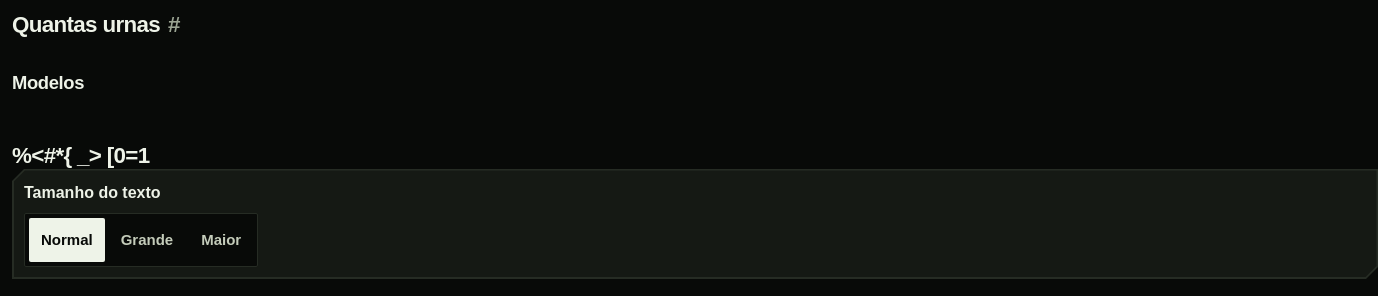
Test: <PostSide /> › tamanho do texto: muda a escala, marca o botão e fica salvo
This screenshot has width=1378, height=296.
Click the button "Grande".
click(147, 240)  # box [109,218,185,262]
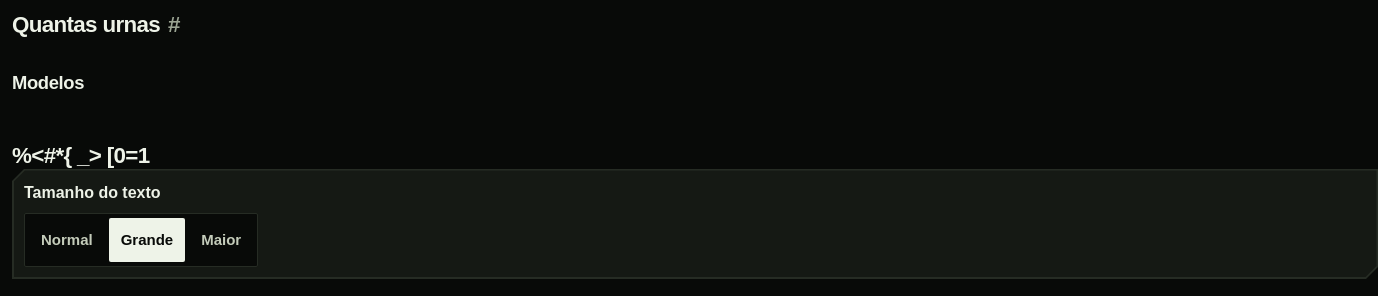
Now the button "Grande" is pressed, box [109,218,185,262]
